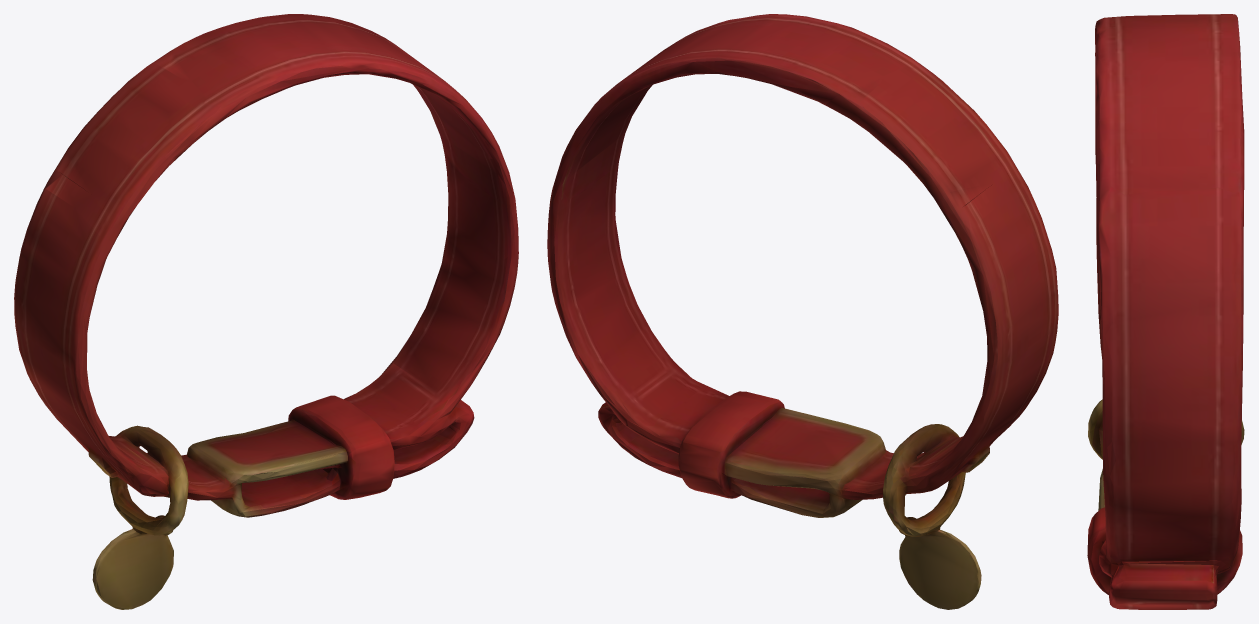
Rendered from collar.glb.
3 renders of one model, left to right at view 1: azimuth 30°, elevation 25°; view 2: azimuth 150°, elevation 25°; view 3: azimuth 270°, elevation 25°, orthographic. The views are drawn at different scales.
Visible parts, largest first — view 1: geometry_0; view 2: geometry_0; view 3: geometry_0.
Boxes of the visible parts, left/top/right/bottom form: geometry_0: left=14, top=14, right=518, bottom=609; geometry_0: left=547, top=14, right=1058, bottom=609; geometry_0: left=1087, top=14, right=1244, bottom=609.
Size of the model in its own units: 0.1779 by 0.1999 by 0.0478.
Materials: 1 (1 with a texture image).
